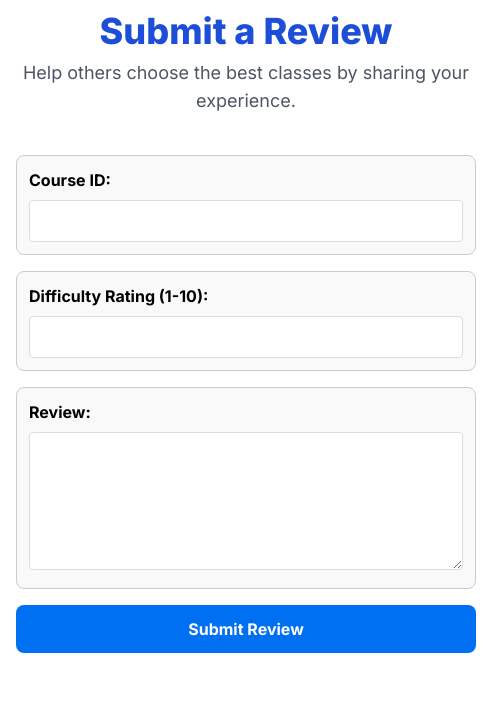
Test case: ReviewForm › shows backend error message if submission fails
Step 1. Type "CS180" into the field labelled "Course ID:" → (246, 221), box [29,200,463,242]
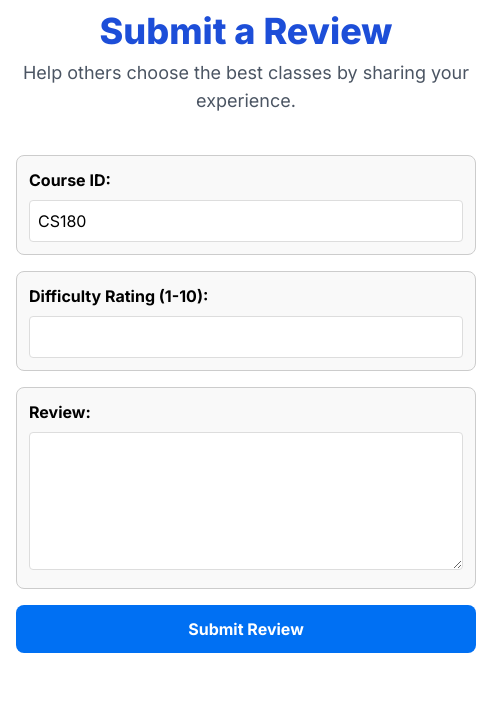
Step 2. Type "3" into the number field labelled "Difficulty Rating (1-10):" → (246, 337), box [29,316,463,358]
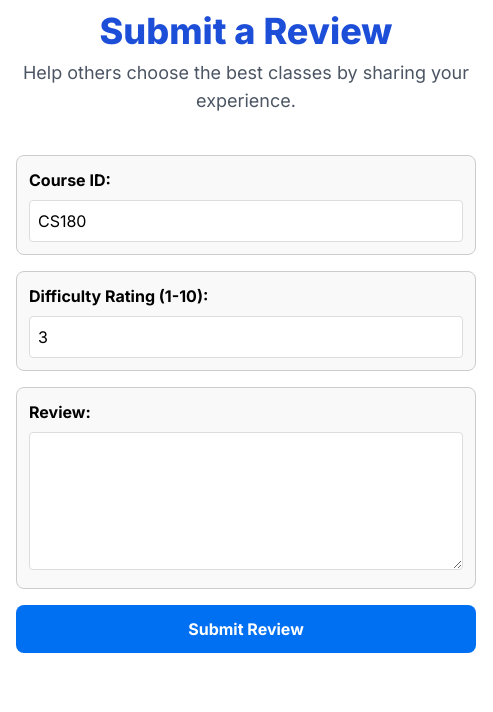
Step 3. Type "Meh." into the text box labelled "Review:" → (246, 501), box [29,432,463,570]
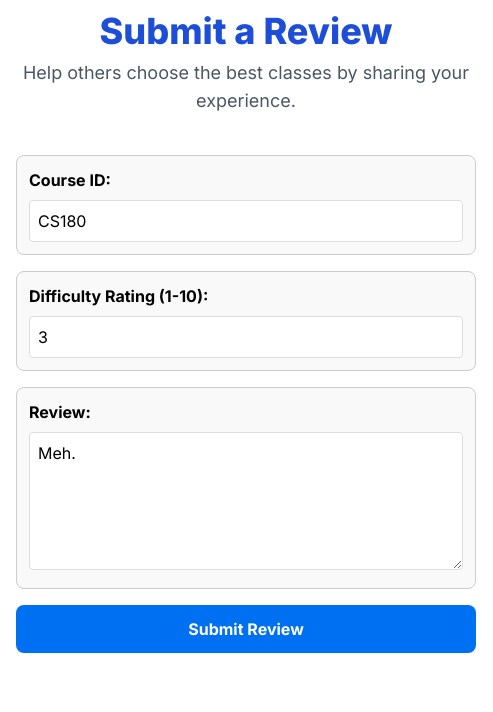
Step 4. Click the button "Submit Review" → (246, 629), box [16,605,476,653]
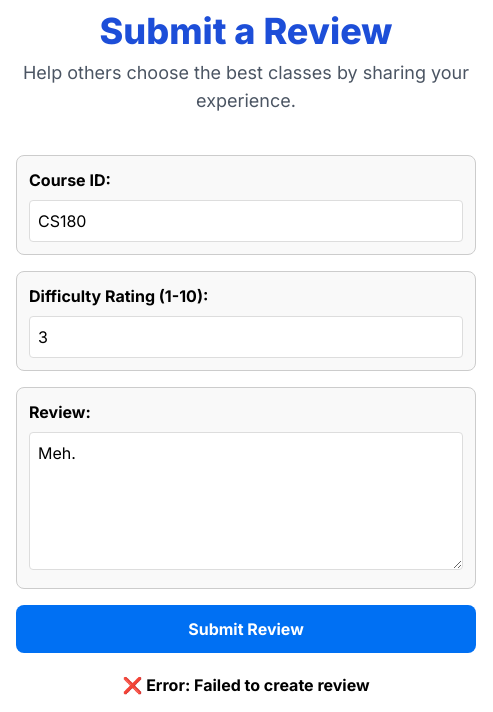
Expected: the text "❌ Error: Failed to create review" is shown, [122,675,370,695]
